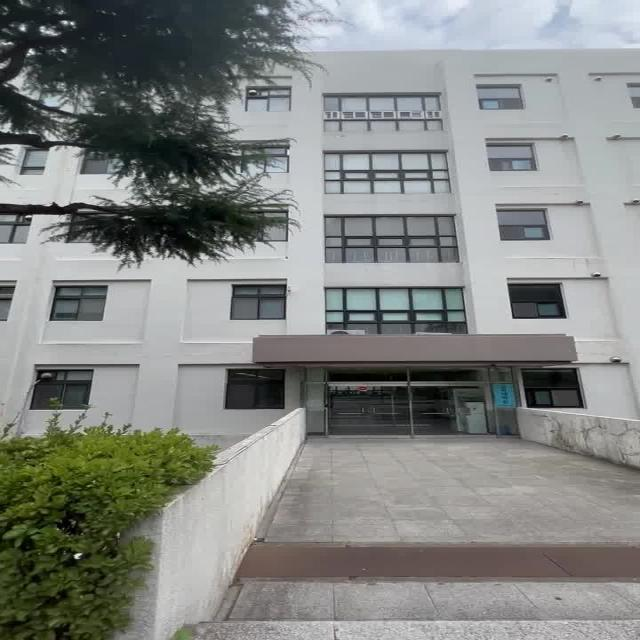building: (266, 66, 640, 433)
